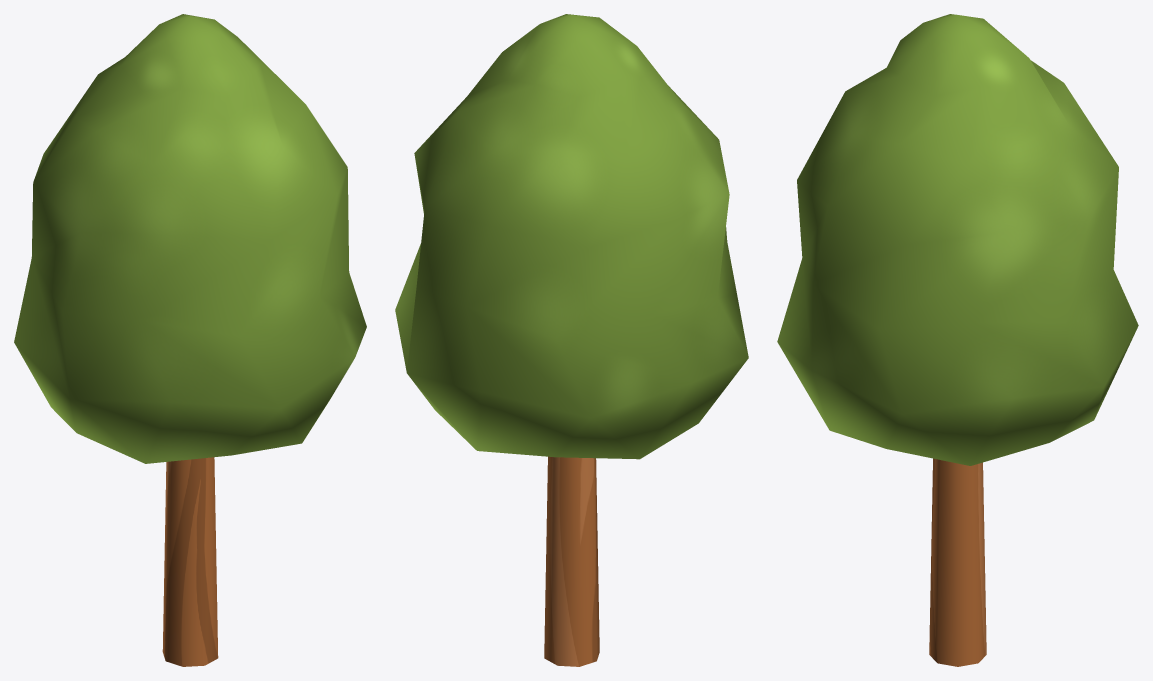
The model's file is Arvore_3.fbx.
The picture shows the model from 3 angles, left to right: view 1: azimuth 30°, elevation 25°; view 2: azimuth 150°, elevation 25°; view 3: azimuth 270°, elevation 25°; orthographic projection.
Parts seen in each view (by area): view 1: Arvore_3; view 2: Arvore_3; view 3: Arvore_3.
Part boxes in pixels (x1,y1,x2,y2): Arvore_3: (14, 14, 366, 666); Arvore_3: (395, 14, 748, 666); Arvore_3: (777, 14, 1138, 666).
Size of the model in its own units: 114 by 234 by 120.
